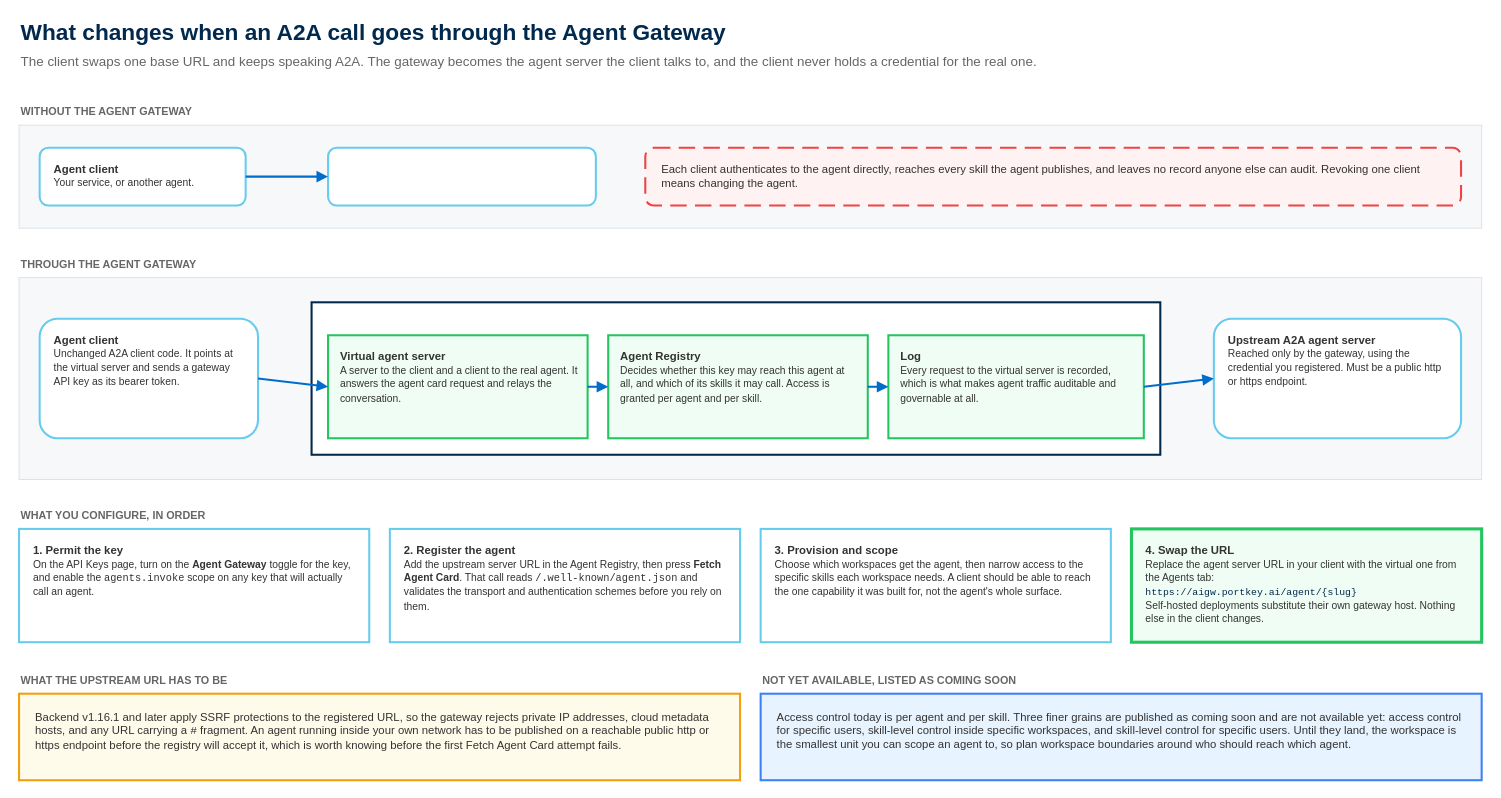
The diagram is 1501 pixels wide and 798 high, and some of its shapes have lost their labels. Each missing label, with the box of its shape:
Prisma AIRS AI Gateway: (310, 301, 1161, 455)
Upstream A2A agent server Holds every skill it exposes, and its own credential.: (327, 146, 596, 206)
